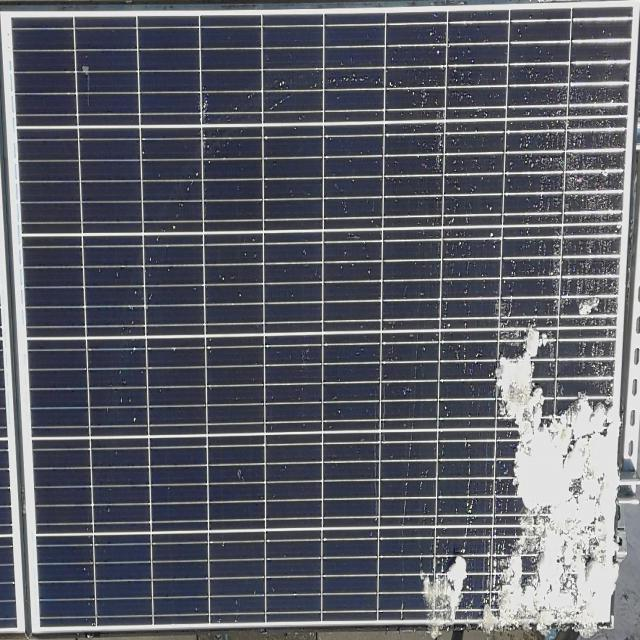faulty: (365, 35, 622, 640)
